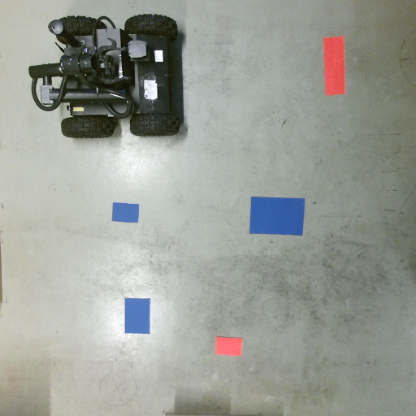Blue: (248, 195, 308, 236), (122, 297, 151, 335), (110, 203, 140, 223)
Jaguar: (27, 15, 181, 139)
Red: (320, 35, 347, 97), (213, 336, 244, 356)
